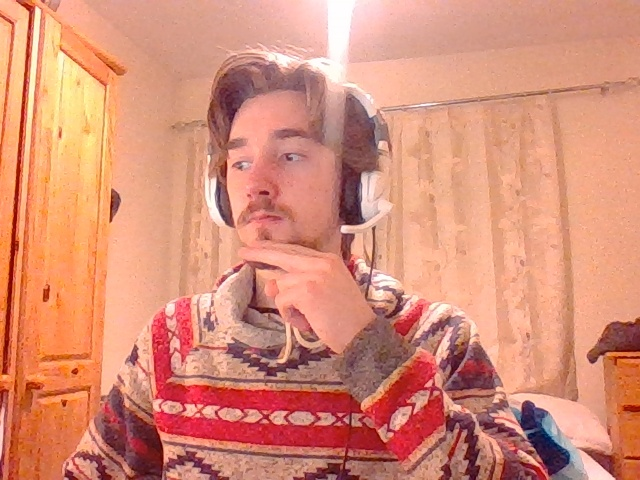afternoon: (236, 239, 375, 351)
